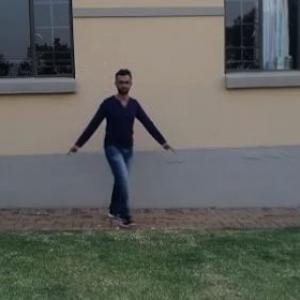land: (63, 63, 179, 238)
